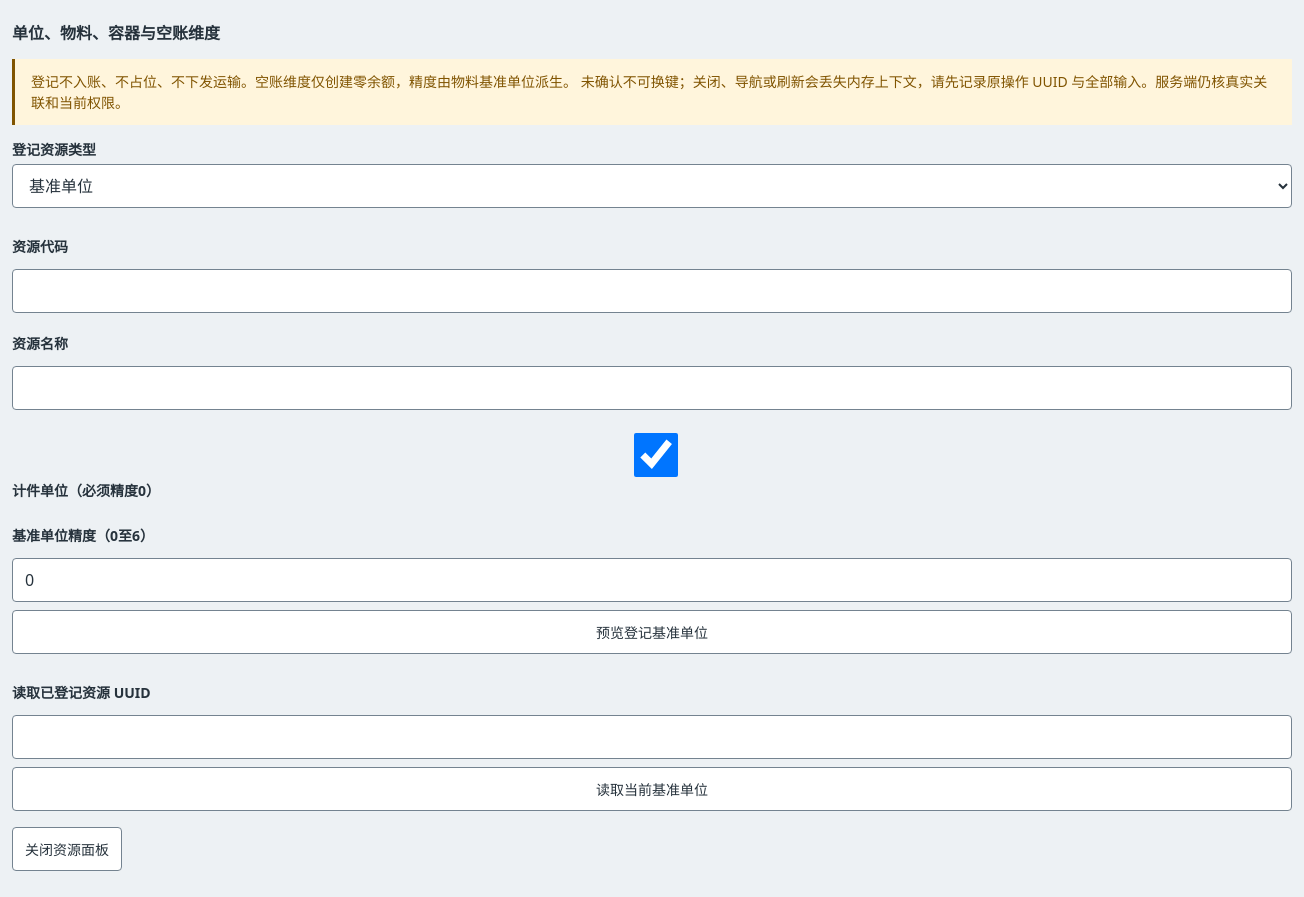
previews every explicit unit field without requests then confirms only the strict tuple and explicitly reads
Type "ea" into the field named "stockResourceCode" at (652, 291), box [12, 269, 1292, 313]
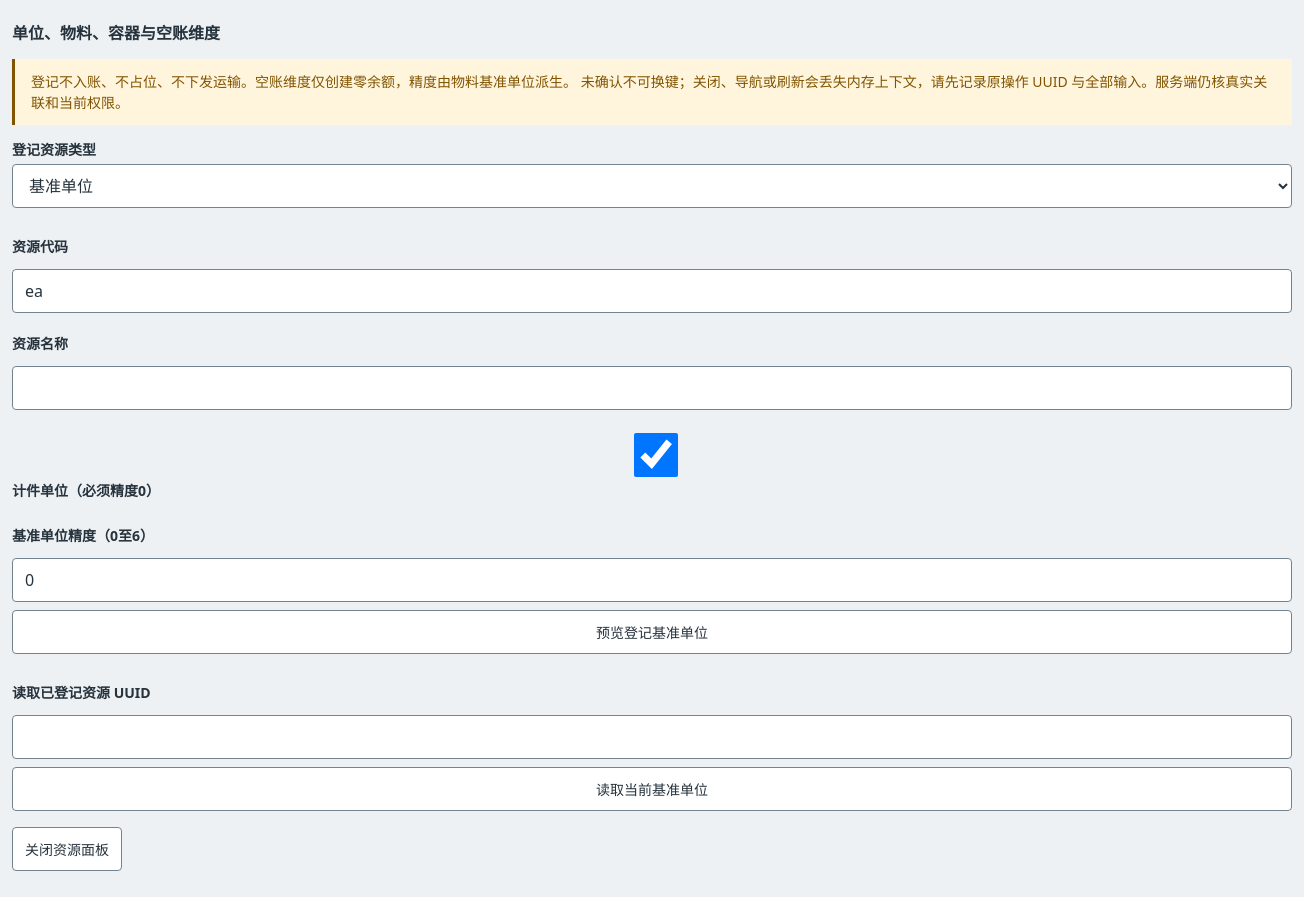
Type "Each" into the field named "stockResourceName" at (652, 388), box [12, 366, 1292, 410]
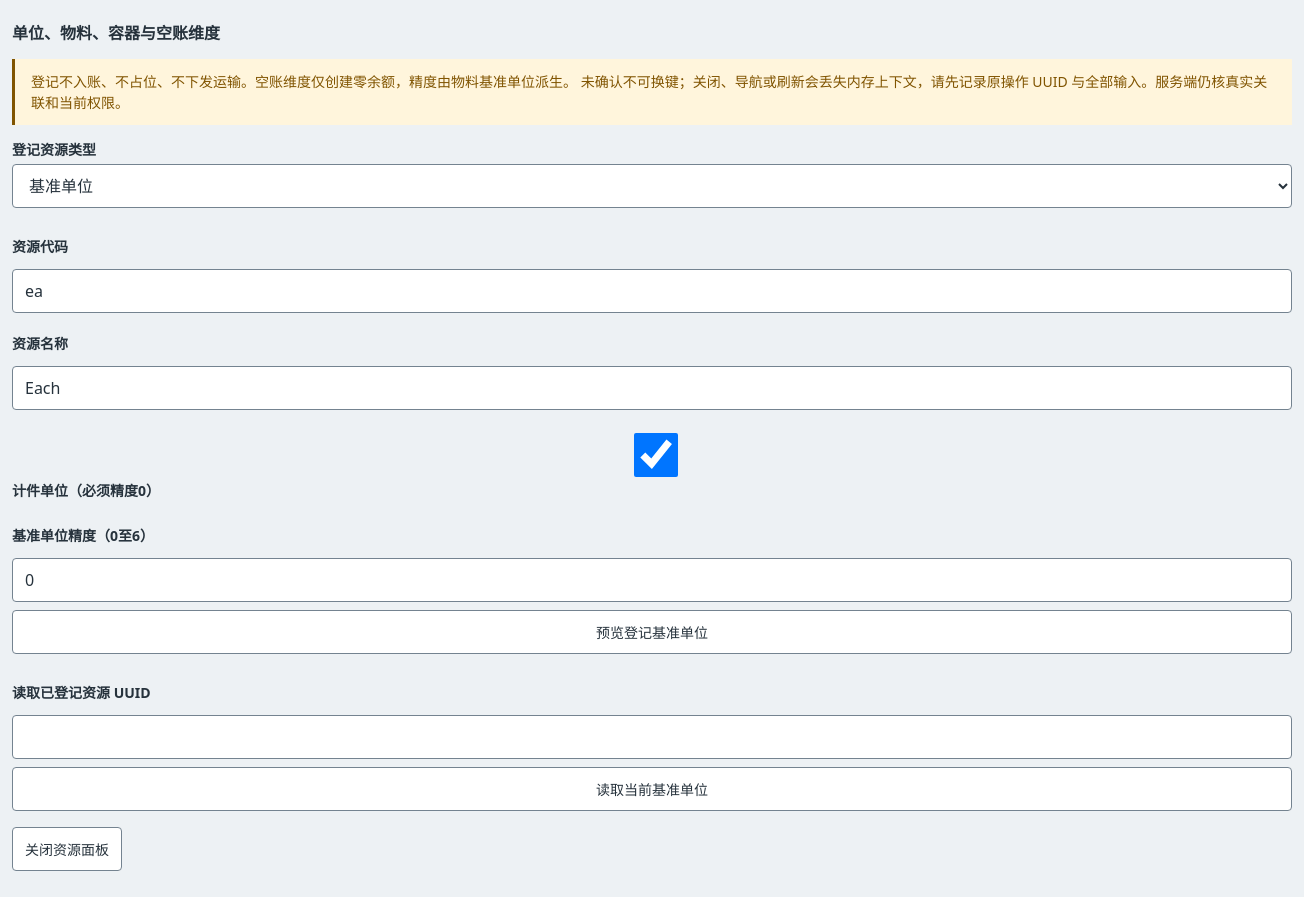
Submit the form with test id "stock-registration", box [12, 224, 1292, 654]
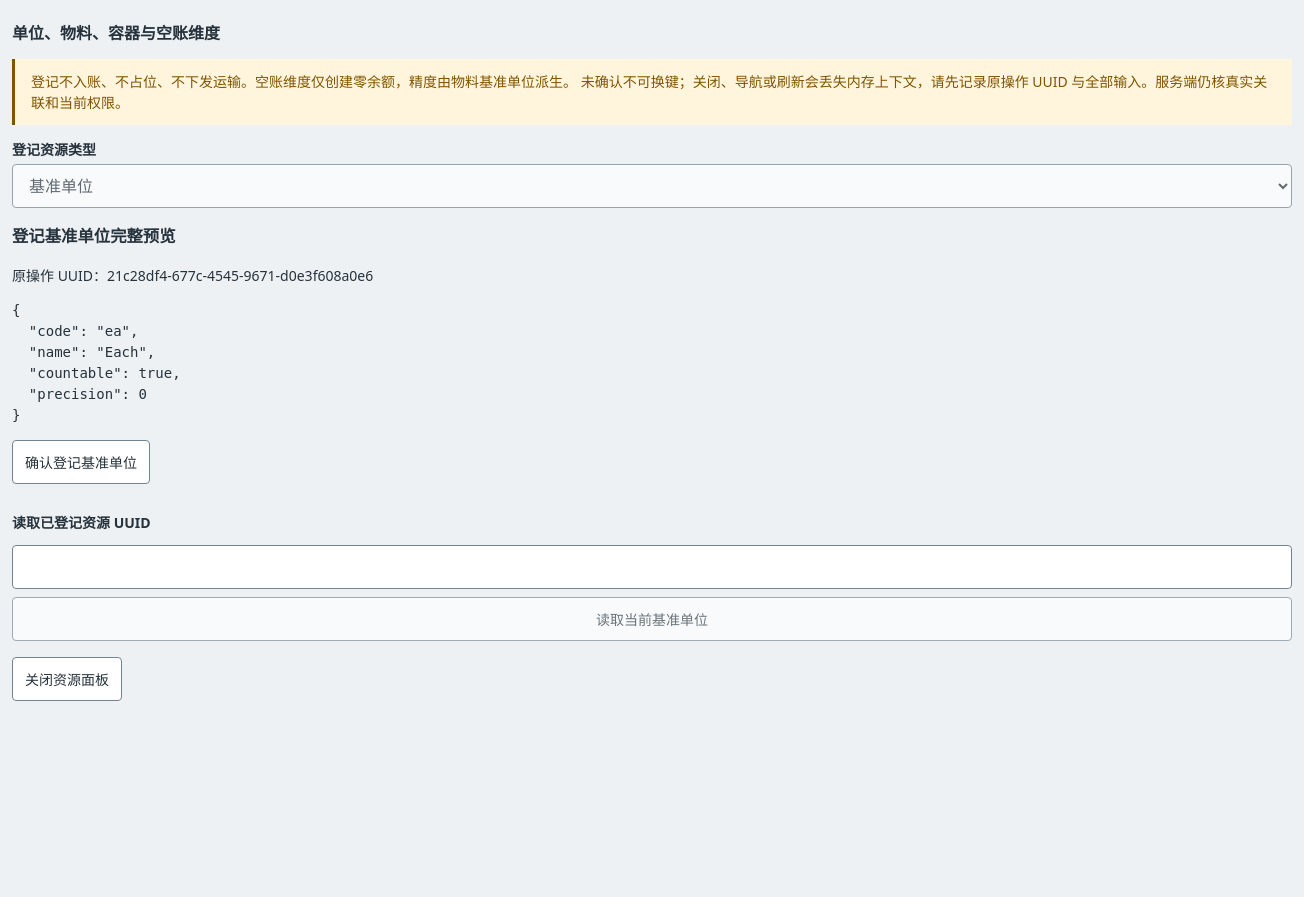
Result: the element with test id "stock-resource-preview" shows "code" at [12, 302, 181, 423]
Result: the element with test id "stock-resource-preview" shows "name" at [12, 302, 181, 423]
Result: the element with test id "stock-resource-preview" shows "countable" at [12, 302, 181, 423]
Click the button with test id "confirm-stock-resource" at (81, 462), box [12, 440, 150, 484]
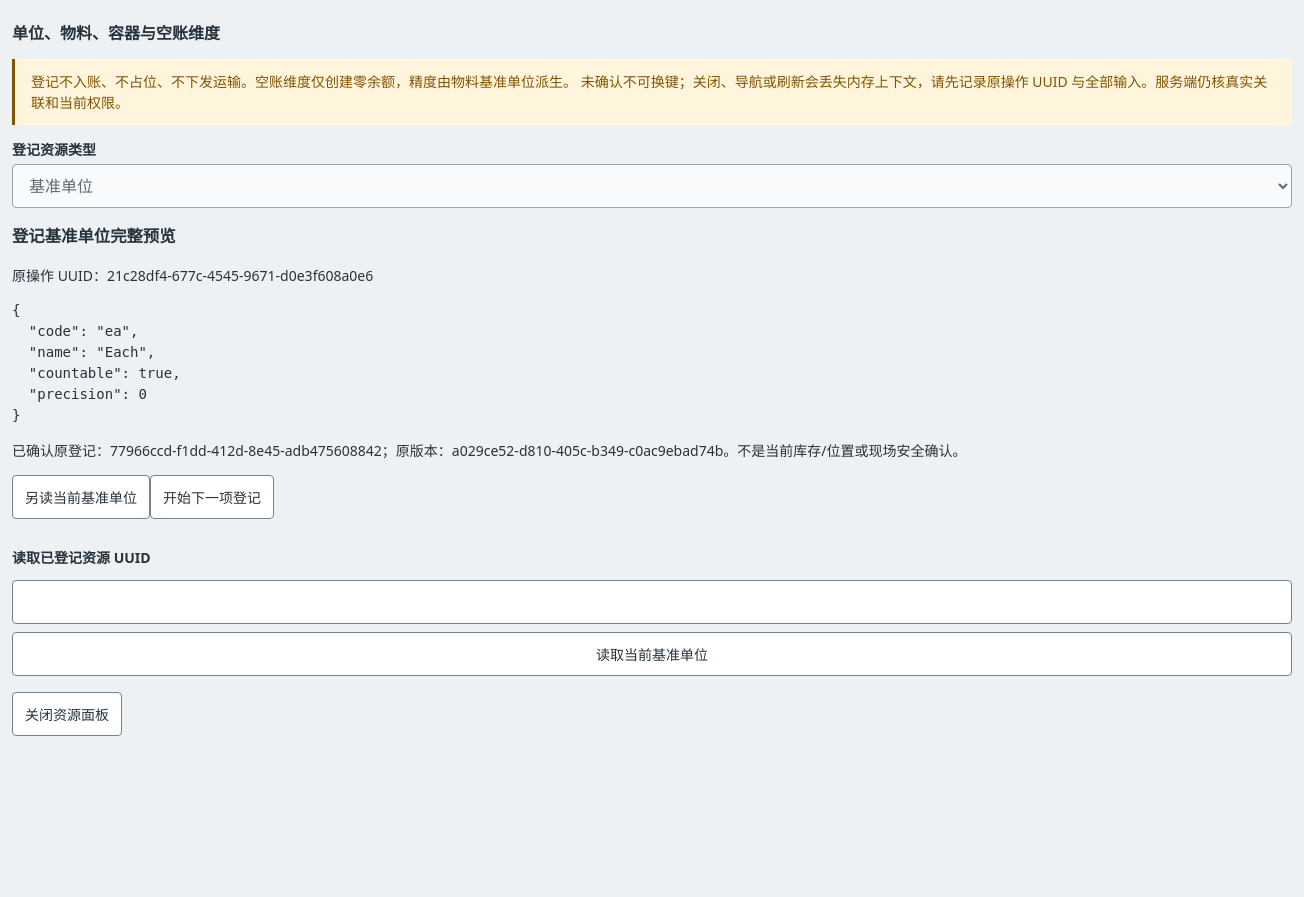
Result: the message with test id "stock-resource-receipt" shows "a029ce52-d810-405c-b349-c0ac9ebad74b" at [12, 441, 966, 460]
Click the button with test id "read-stock-resource" at (81, 497), box [12, 475, 150, 519]
(page scrolled)
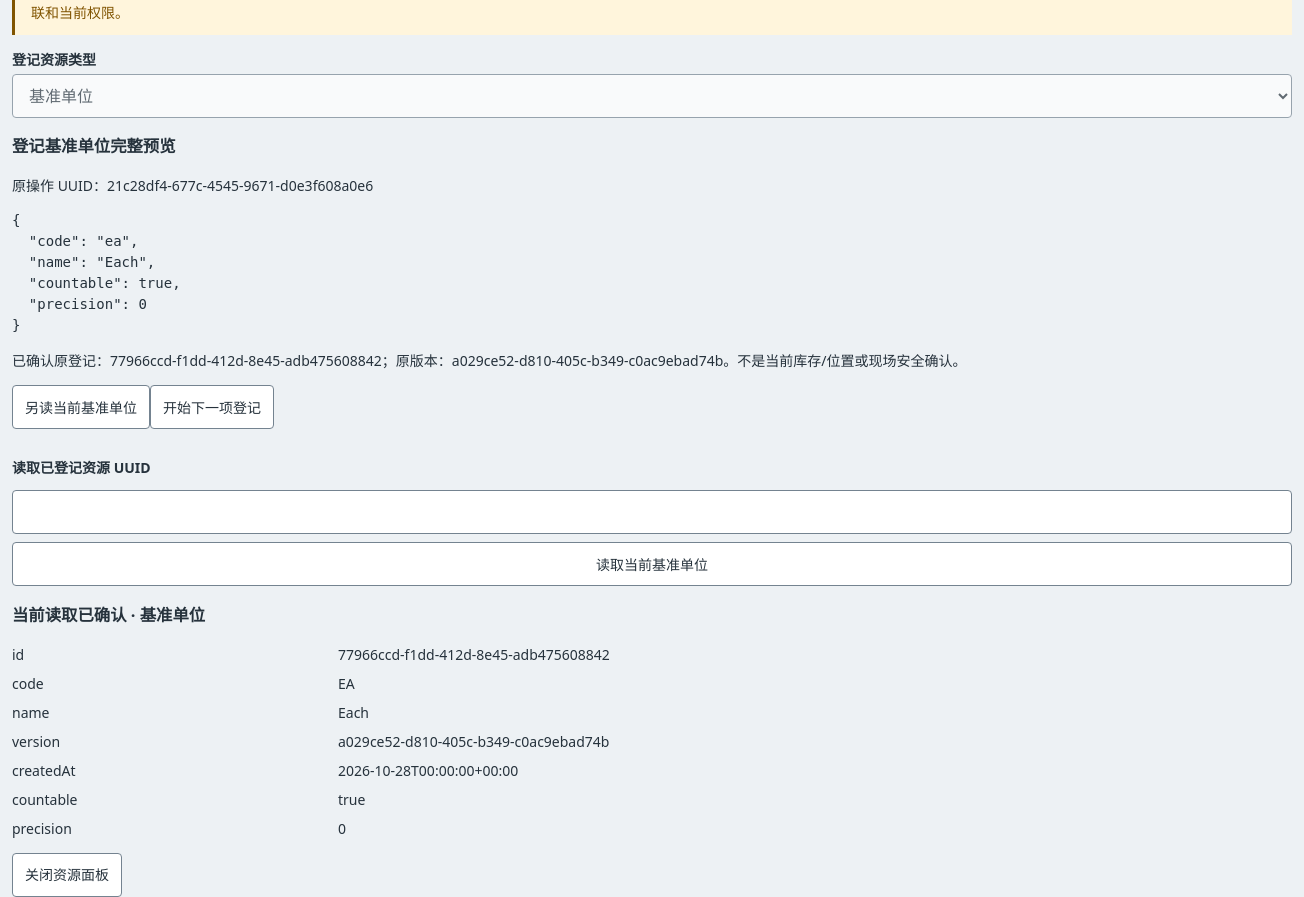
Result: the element with test id "stock-resource-details" shows "当前读取已确认" at [12, 604, 205, 626]
